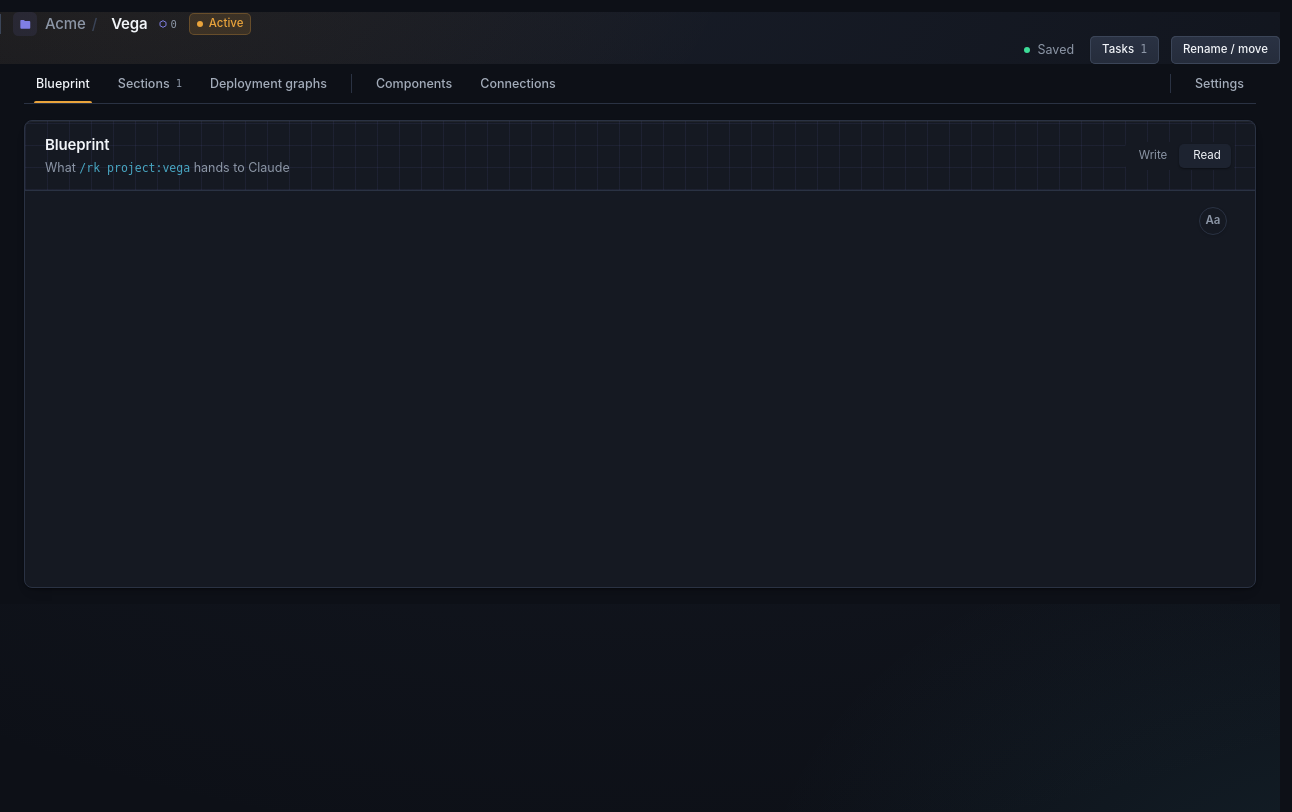
the project page › opens each tab’s page in place of the blueprint
The image size is (1292, 812).
Click the button with test id "tab-components" at (414, 84), box [364, 64, 464, 103]
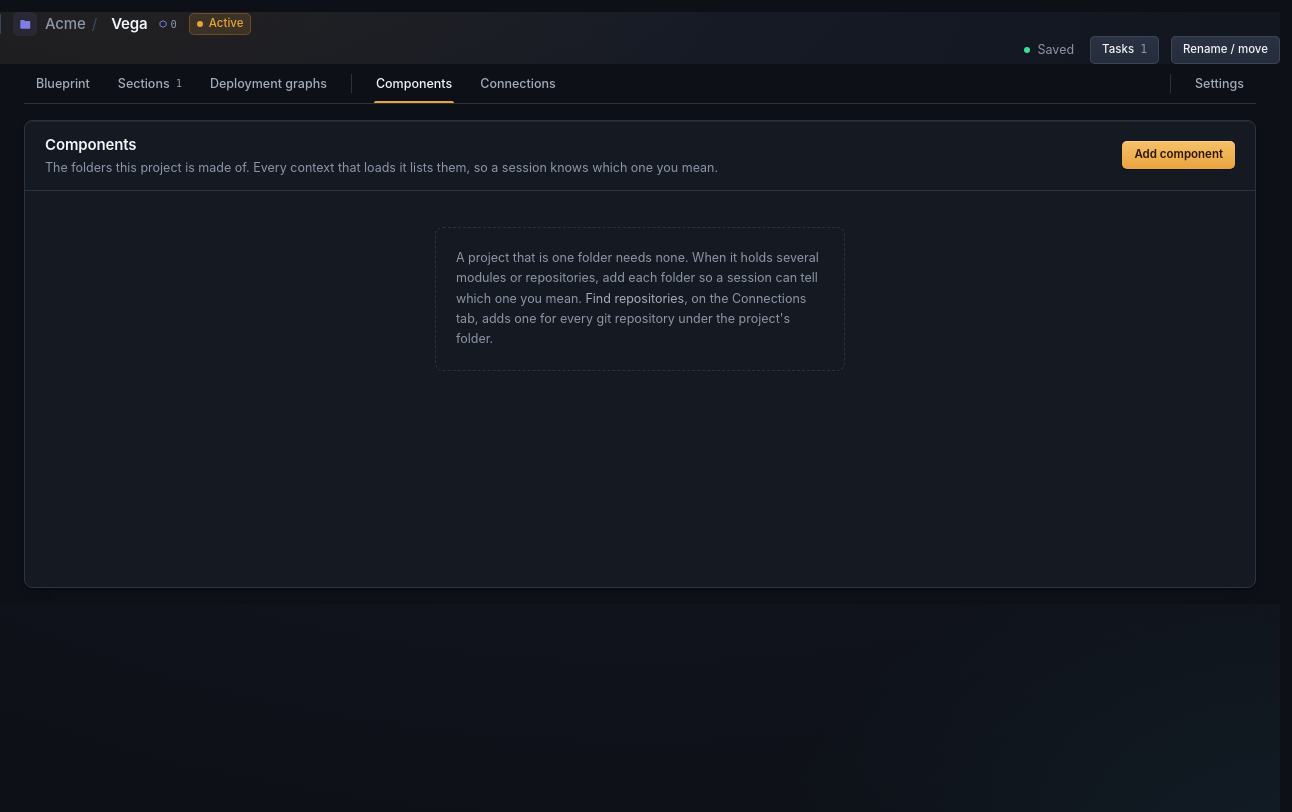
Check: the element with test id "project-components" is shown, box [24, 120, 1256, 588]
Click the button with test id "tab-connections" at (518, 84), box [468, 64, 568, 103]
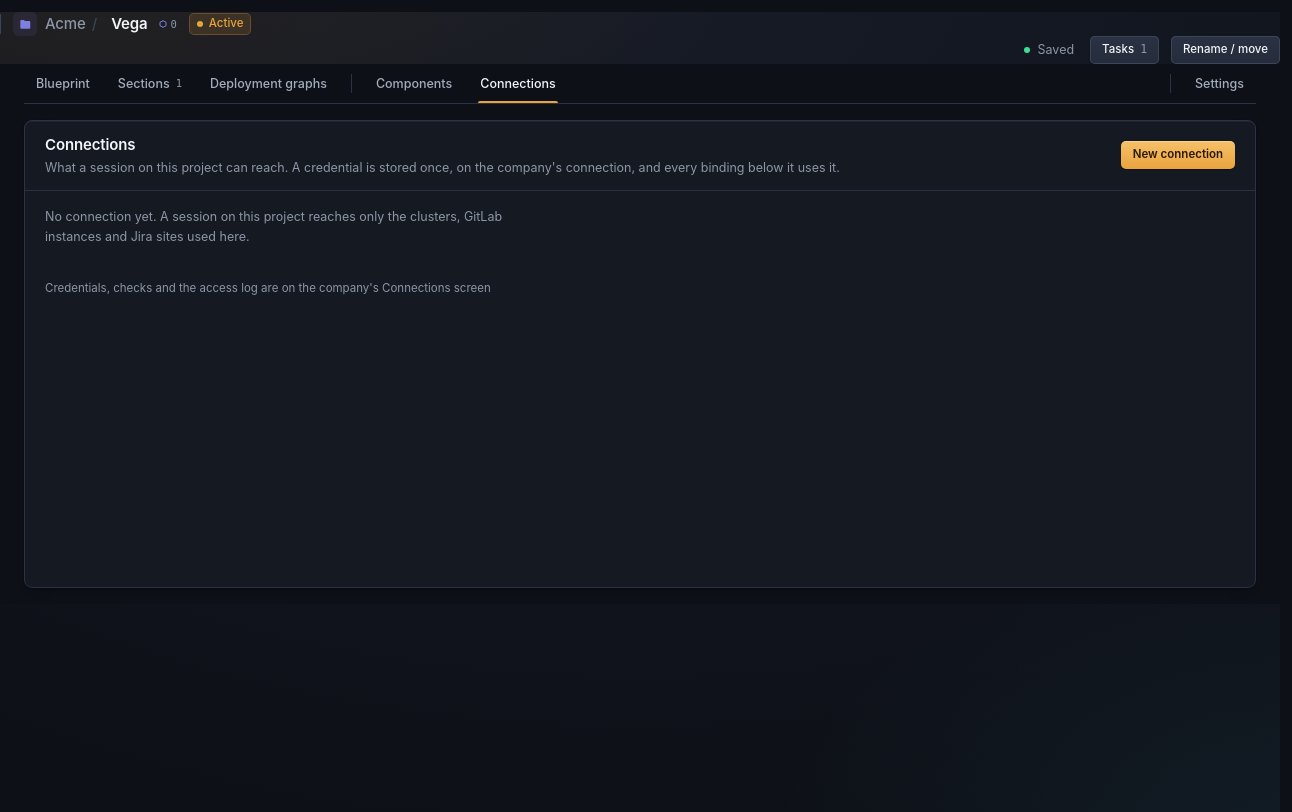
Check: the element with test id "project-connections" is shown, box [24, 120, 1256, 588]
Click the button with test id "tab-settings" at (1220, 84), box [1183, 64, 1256, 103]
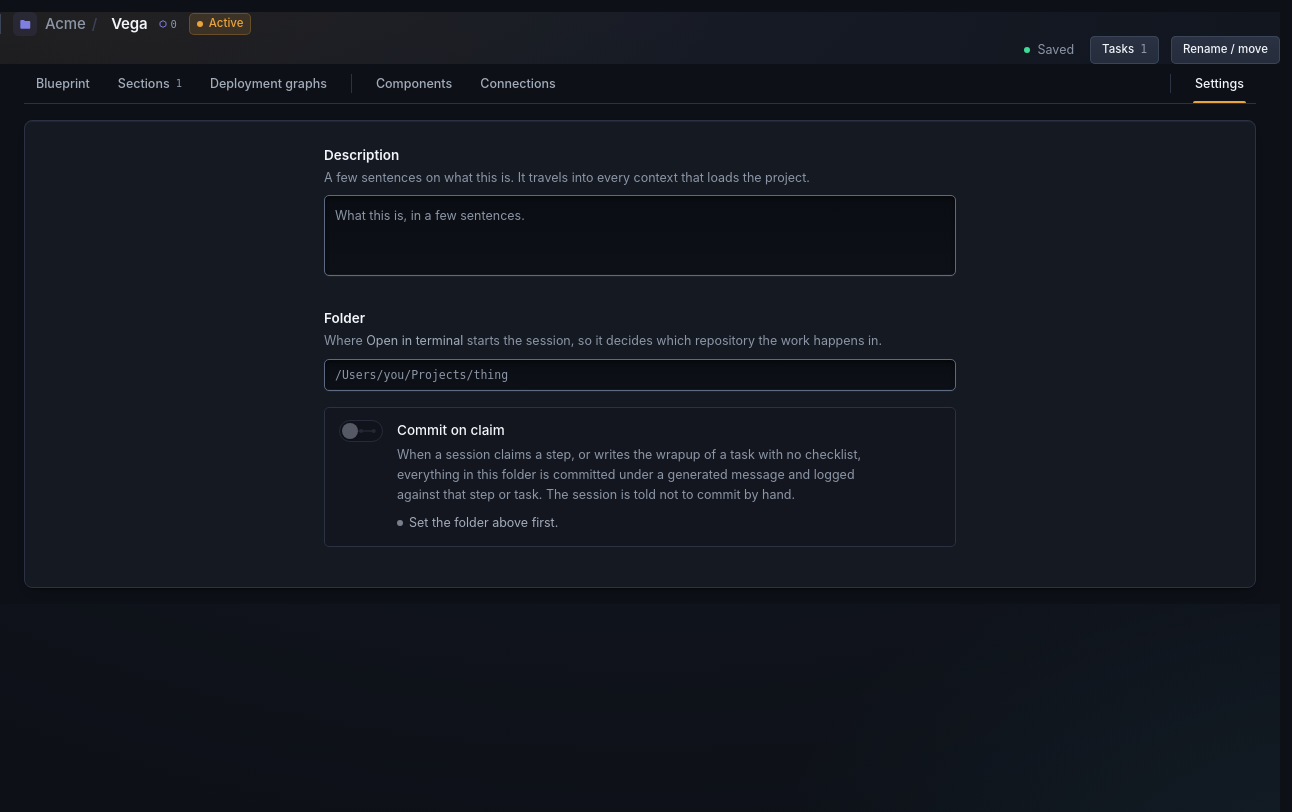
Check: the text box with test id "project-description" is shown, box [324, 195, 956, 276]
Check: the field with test id "project-repo-folder" is shown, box [324, 359, 956, 391]
Click the button with test id "tab-blueprint" at (63, 84), box [24, 64, 102, 103]
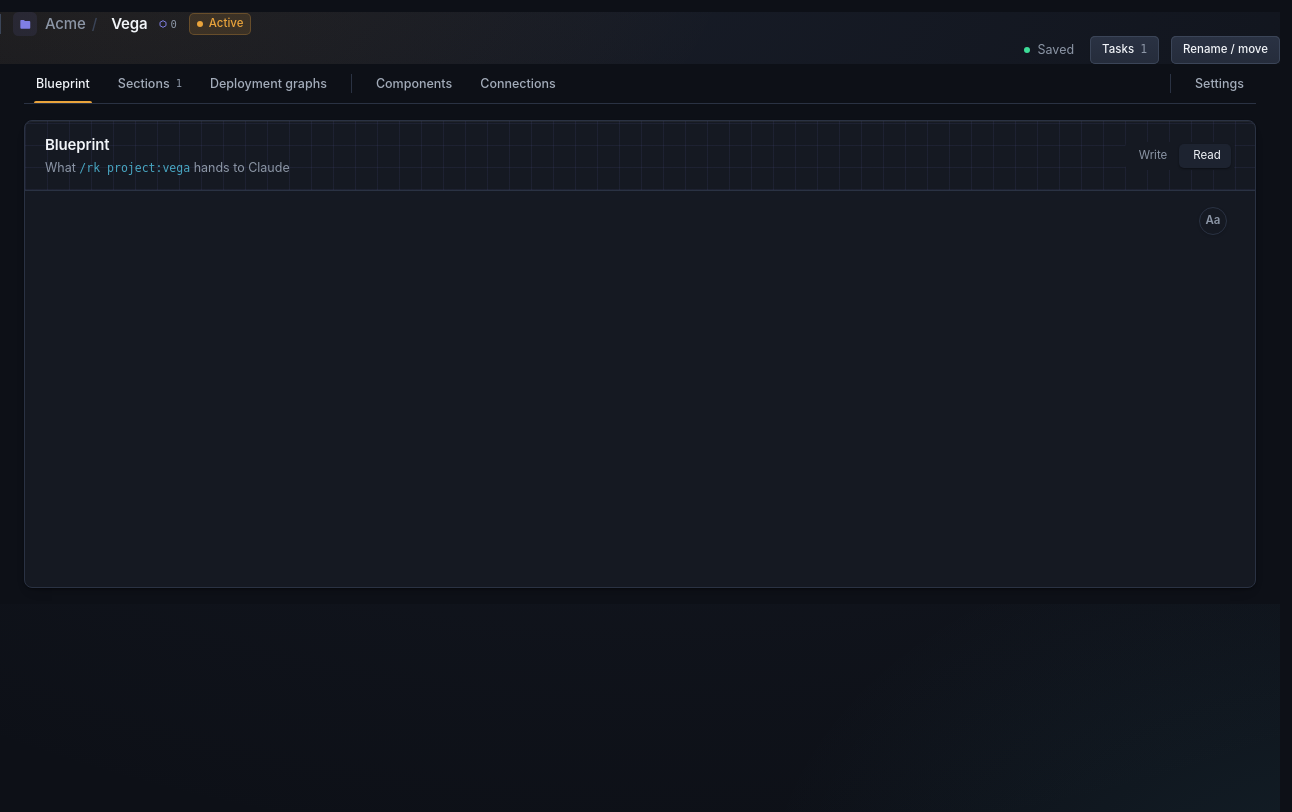
Check: the element with test id "blueprint-pane" is shown, box [24, 120, 1256, 588]
